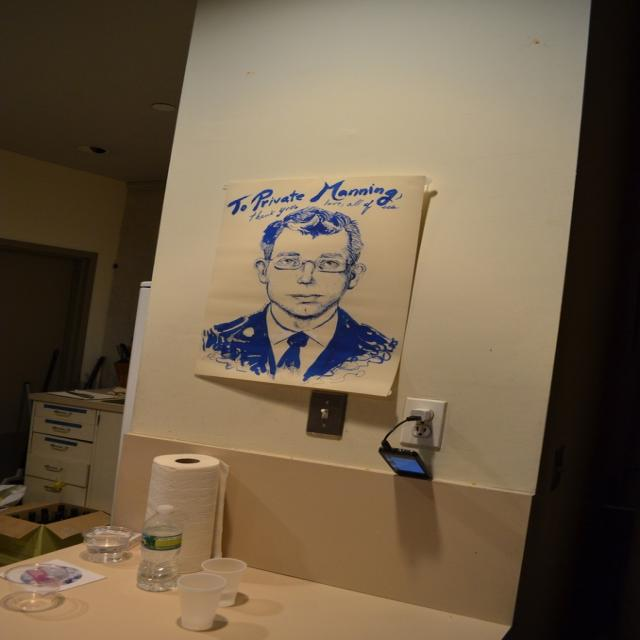Table: (0, 534, 511, 639)
